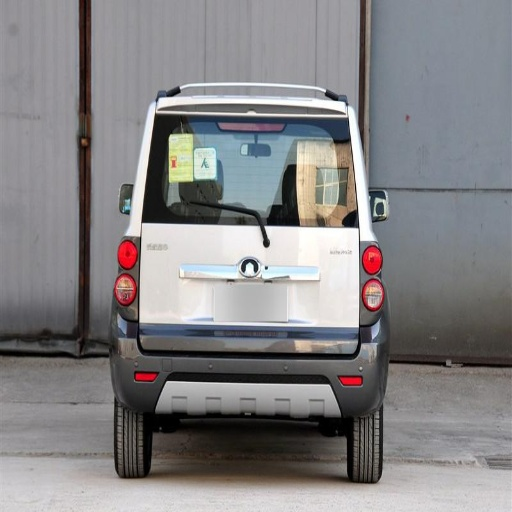back_bumper: (113, 314, 234, 406), (281, 319, 387, 416)
trunk: (139, 224, 357, 356)
